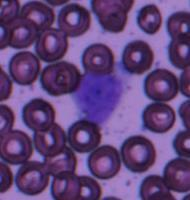L: (72, 71, 126, 123)
